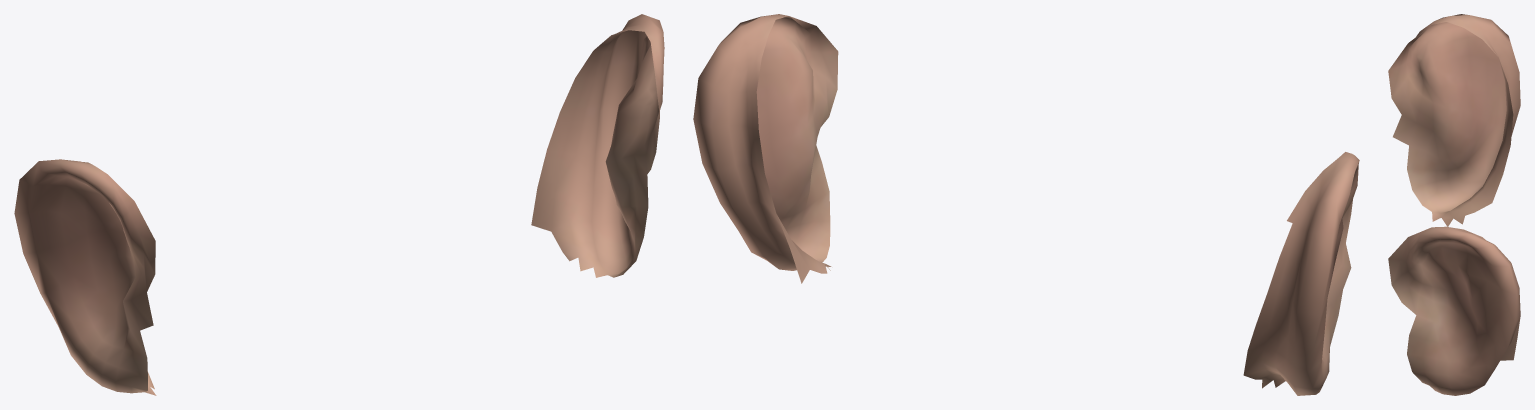
Rendered from 女性_外皮系统_耳朵.fbx.
3 views of the same model, side by side, from view 1: azimuth 30°, elevation 25°; view 2: azimuth 150°, elevation 25°; view 3: azimuth 270°, elevation 25° (orthographic). The views are drawn at different scales.
Visible parts, largest first — view 1: 女性_外皮系统_耳朵; view 2: 女性_外皮系统_耳朵; view 3: 女性_外皮系统_耳朵.
Part boxes in pixels (left/top/right/bottom): 女性_外皮系统_耳朵: left=14, top=14, right=664, bottom=395; 女性_外皮系统_耳朵: left=693, top=14, right=1359, bottom=395; 女性_外皮系统_耳朵: left=1388, top=14, right=1520, bottom=395.
Bounding box in the file's own units: 16.07 × 5.99 × 3.9.
